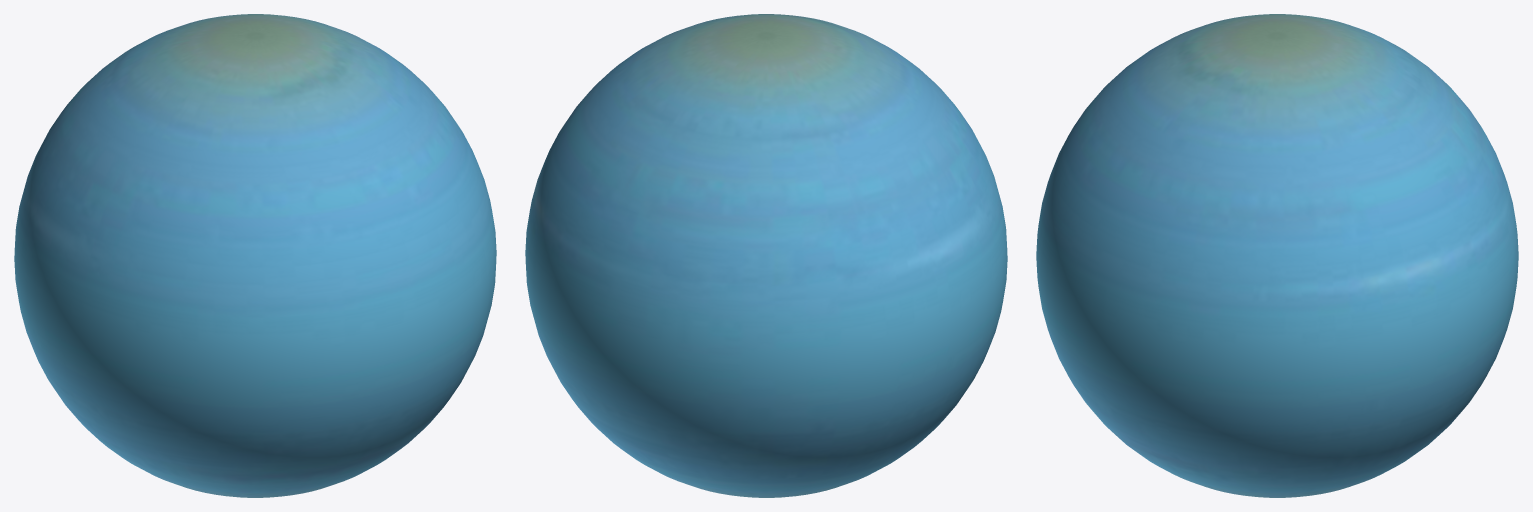
Rendered from Uran.obj.
3 renders of one model, left to right at view 1: azimuth 30°, elevation 25°; view 2: azimuth 150°, elevation 25°; view 3: azimuth 270°, elevation 25°, orthographic.
Parts seen in each view (by area): view 1: Sphere.001; view 2: Sphere.001; view 3: Sphere.001.
Part boxes in pixels (<box>): Sphere.001: <box>14,14,496,497</box>; Sphere.001: <box>525,14,1007,497</box>; Sphere.001: <box>1036,14,1518,497</box>.
Bounding box in the file's own units: 50.63 × 51.07 × 50.63.
1 material, 1 textured.
